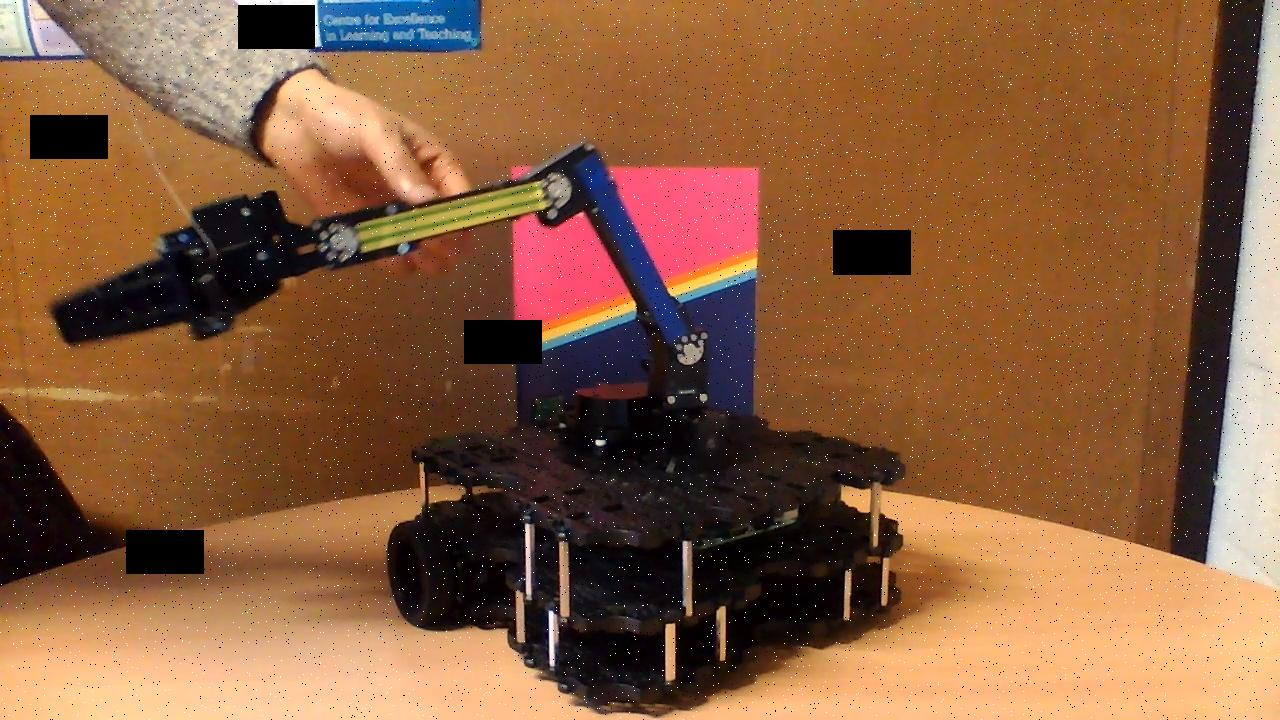Arm: (563, 133, 710, 369)
Hand: (47, 185, 359, 352)
Wrist: (311, 168, 571, 275)
base: (385, 378, 908, 705)
